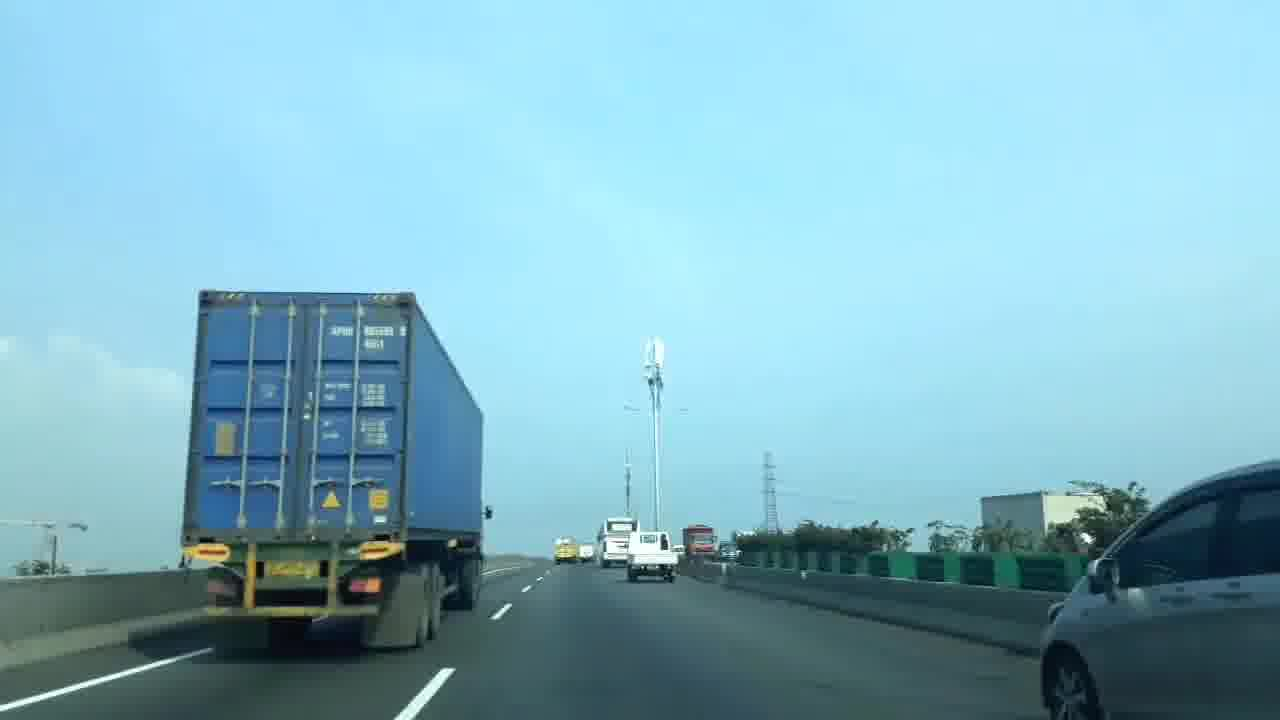plate_positive: (263, 559, 321, 577)
